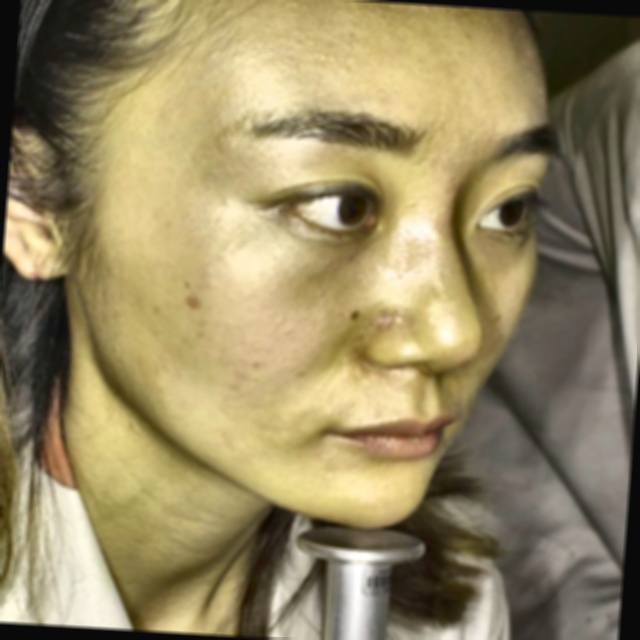comedone: (372, 309, 402, 333)
